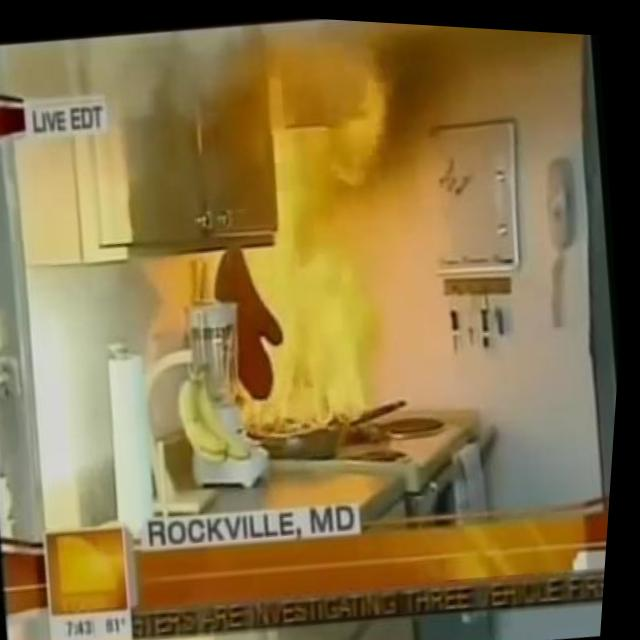fire: (189, 10, 445, 446)
